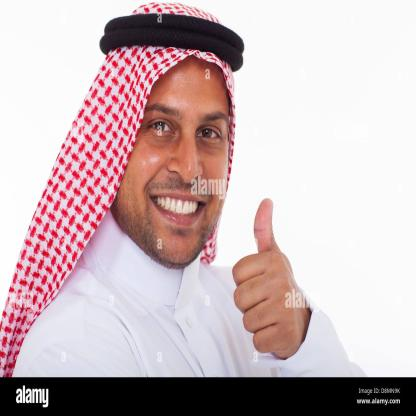Thumbs-Up: (217, 181, 330, 366)
